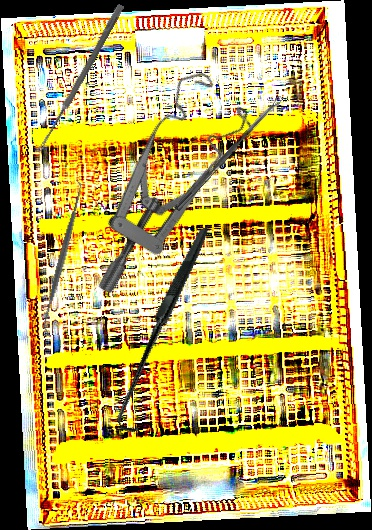Hook Surgical: (57, 226, 275, 437)
Spatula Surgical: (33, 178, 92, 337)
Speculum: (26, 57, 288, 300)
Surgical Spoon: (36, 3, 125, 153), (174, 95, 285, 212)
